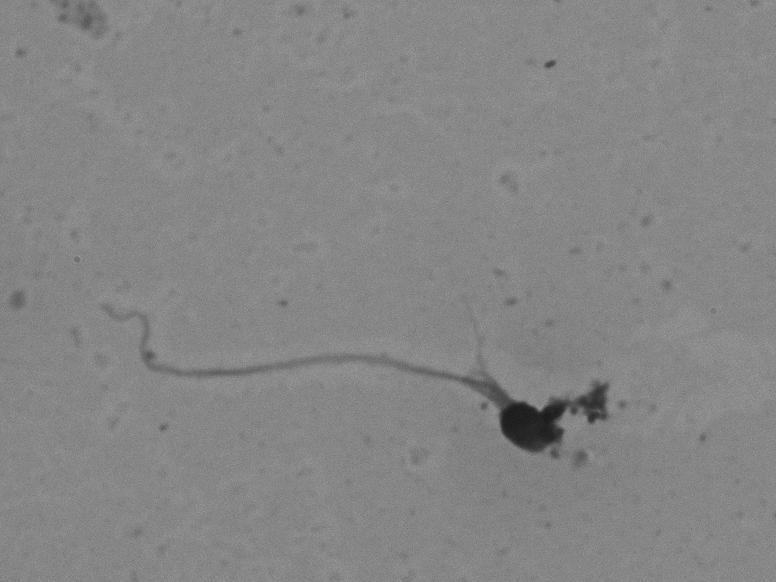Abnormal: (99, 249, 572, 479)
